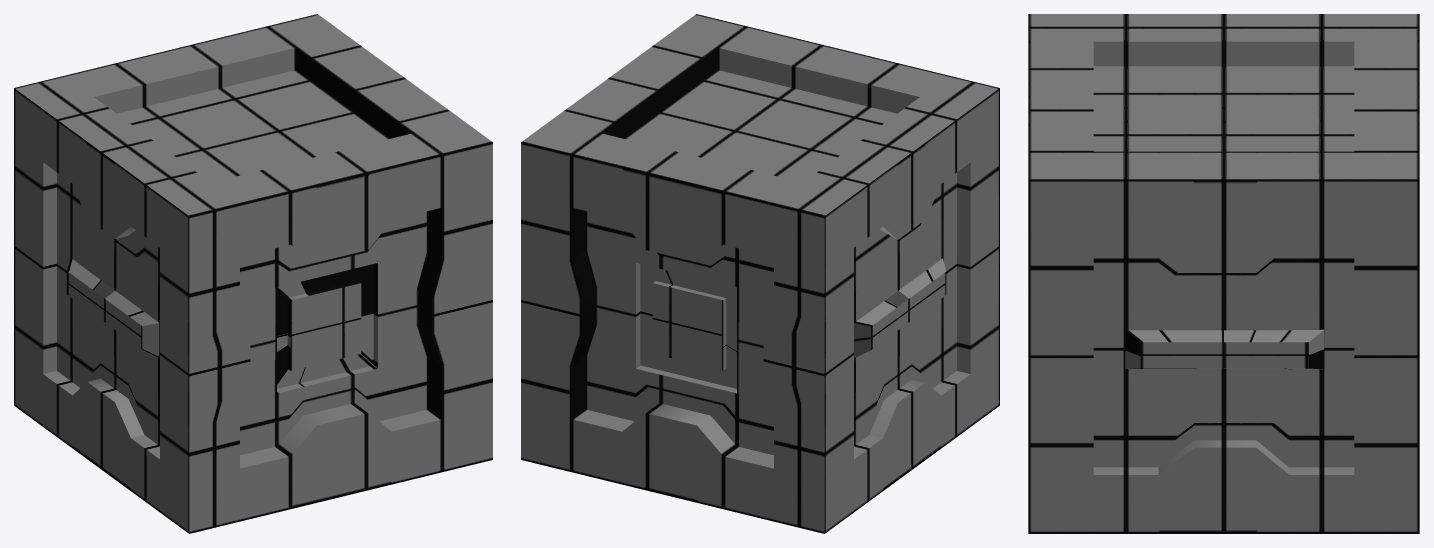
File: mesh_crate_v01.fbx
The picture shows the model from 3 angles, left to right: view 1: azimuth 30°, elevation 25°; view 2: azimuth 150°, elevation 25°; view 3: azimuth 270°, elevation 25°; orthographic projection. The views are drawn at different scales.
Parts seen in each view (by area): view 1: Cube; view 2: Cube; view 3: Cube.
Boxes of the visible parts, box(x1,y1,x2,y2) form: Cube: box(14, 14, 492, 533); Cube: box(521, 14, 999, 533); Cube: box(1028, 14, 1419, 533).
Bounding box in the file's own units: 3 × 3 × 3.
